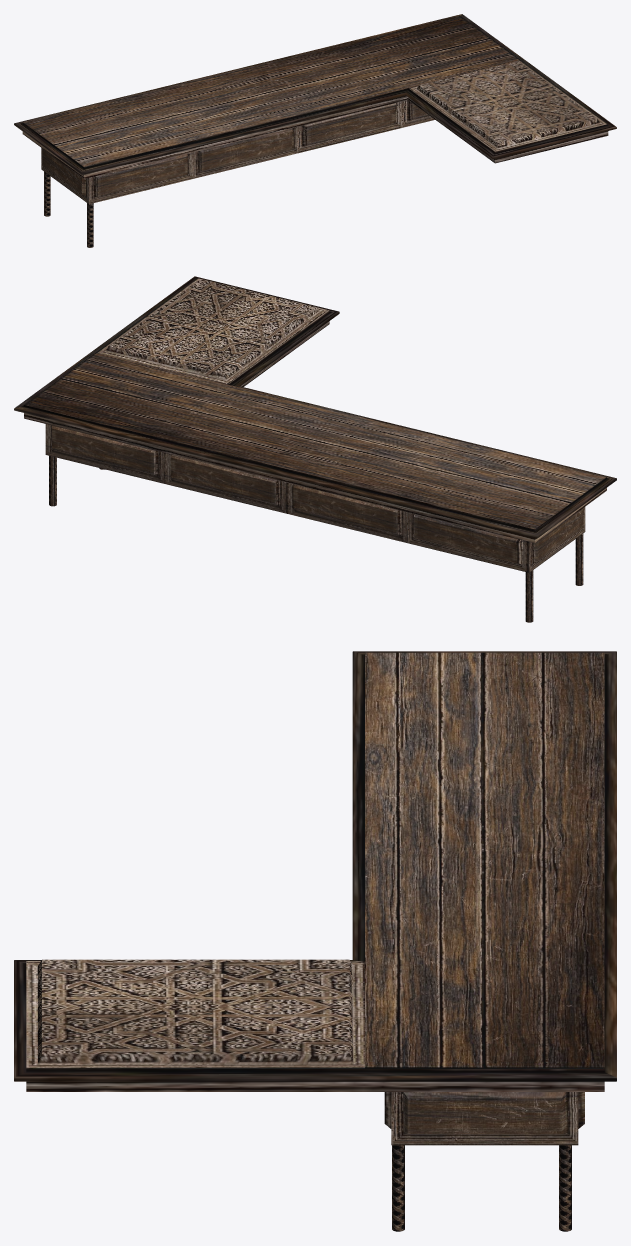
The picture shows the model from 3 angles, top to bottom: view 1: azimuth 30°, elevation 25°; view 2: azimuth 150°, elevation 25°; view 3: azimuth 270°, elevation 25°; orthographic projection. The views are drawn at different scales.
Parts seen in each view (by area): view 1: Box032; view 2: Box032; view 3: Box032.
Boxes of the visible parts, x1,y1,x2,y2 form: Box032: (14,14,616,247); Box032: (14,276,616,622); Box032: (14,651,616,1231).
Size of the model in its own units: 252 by 49.97 by 150.
